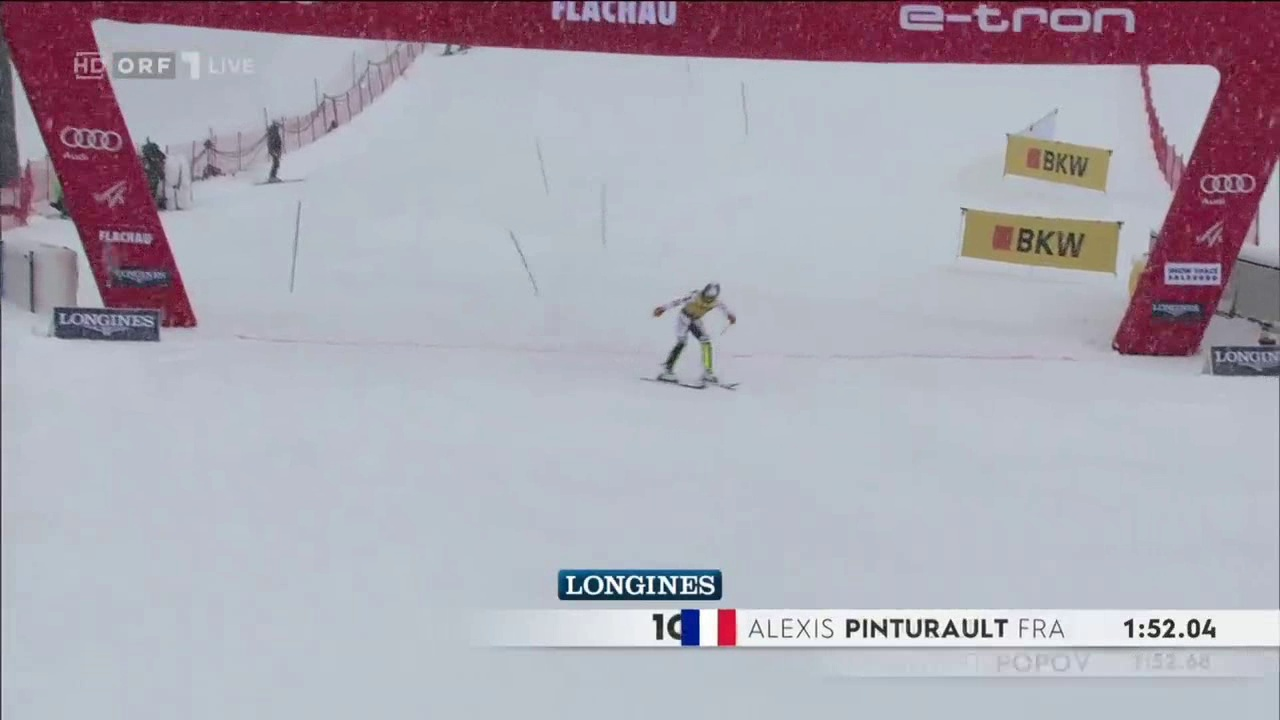audi: (57, 127, 131, 159), (1198, 172, 1262, 203)
etron: (899, 3, 1122, 44)
flachau: (555, 1, 679, 35)
longines: (561, 572, 729, 602), (53, 312, 161, 344), (1210, 347, 1279, 381)
